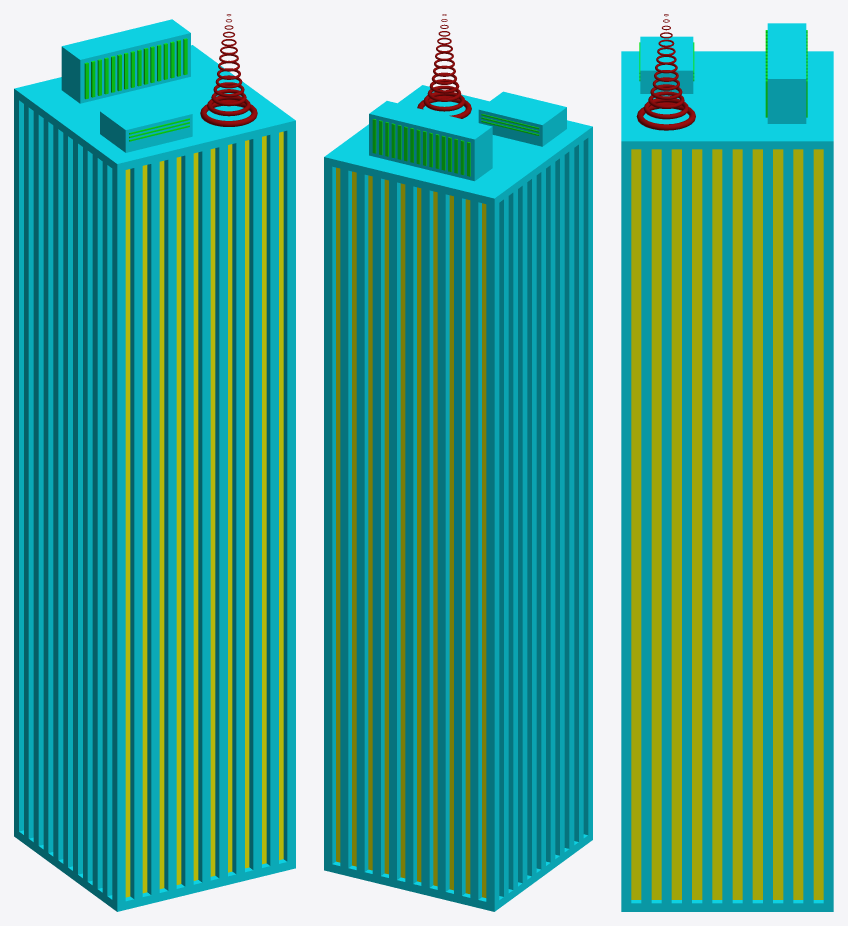
File: SM_Building04.FBX
3 renders of one model, left to right at view 1: azimuth 30°, elevation 25°; view 2: azimuth 150°, elevation 25°; view 3: azimuth 270°, elevation 25°, orthographic. The views are drawn at different scales.
Visible parts, largest first — view 1: Box008; view 2: Box008; view 3: Box008.
Boxes of the visible parts, <box> form: Box008: <box>14,14,295,911</box>; Box008: <box>324,14,592,911</box>; Box008: <box>621,14,833,911</box>.
Bounding box in the file's own units: 40 × 182 × 40.
